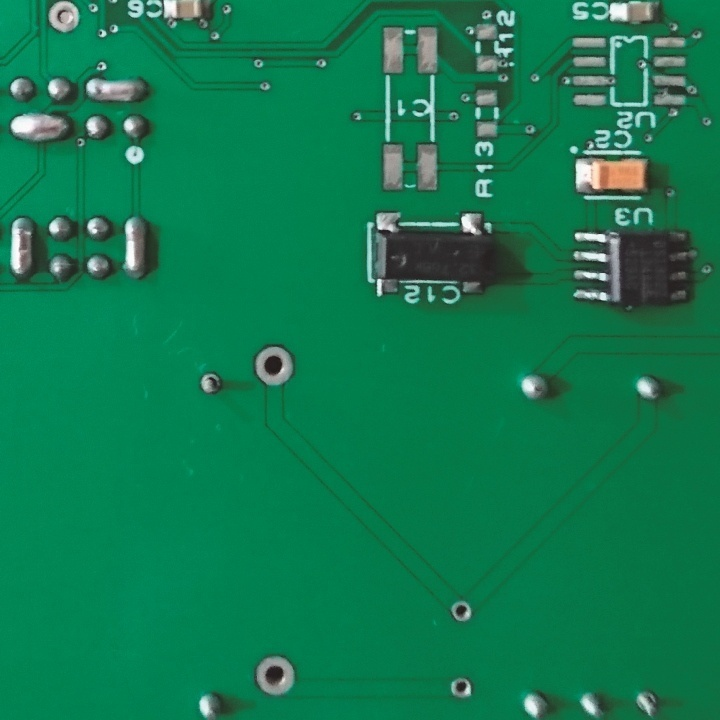F: (250, 342, 299, 389), (253, 652, 299, 697), (47, 1, 82, 38), (632, 687, 664, 720), (196, 368, 226, 397), (449, 674, 473, 700), (450, 599, 474, 624)
P: (7, 110, 73, 146), (82, 74, 150, 106), (7, 212, 38, 280), (122, 212, 150, 281)
